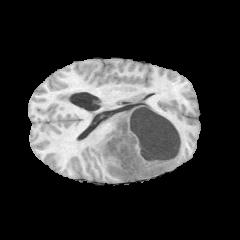glioma: (64, 94, 183, 181)
